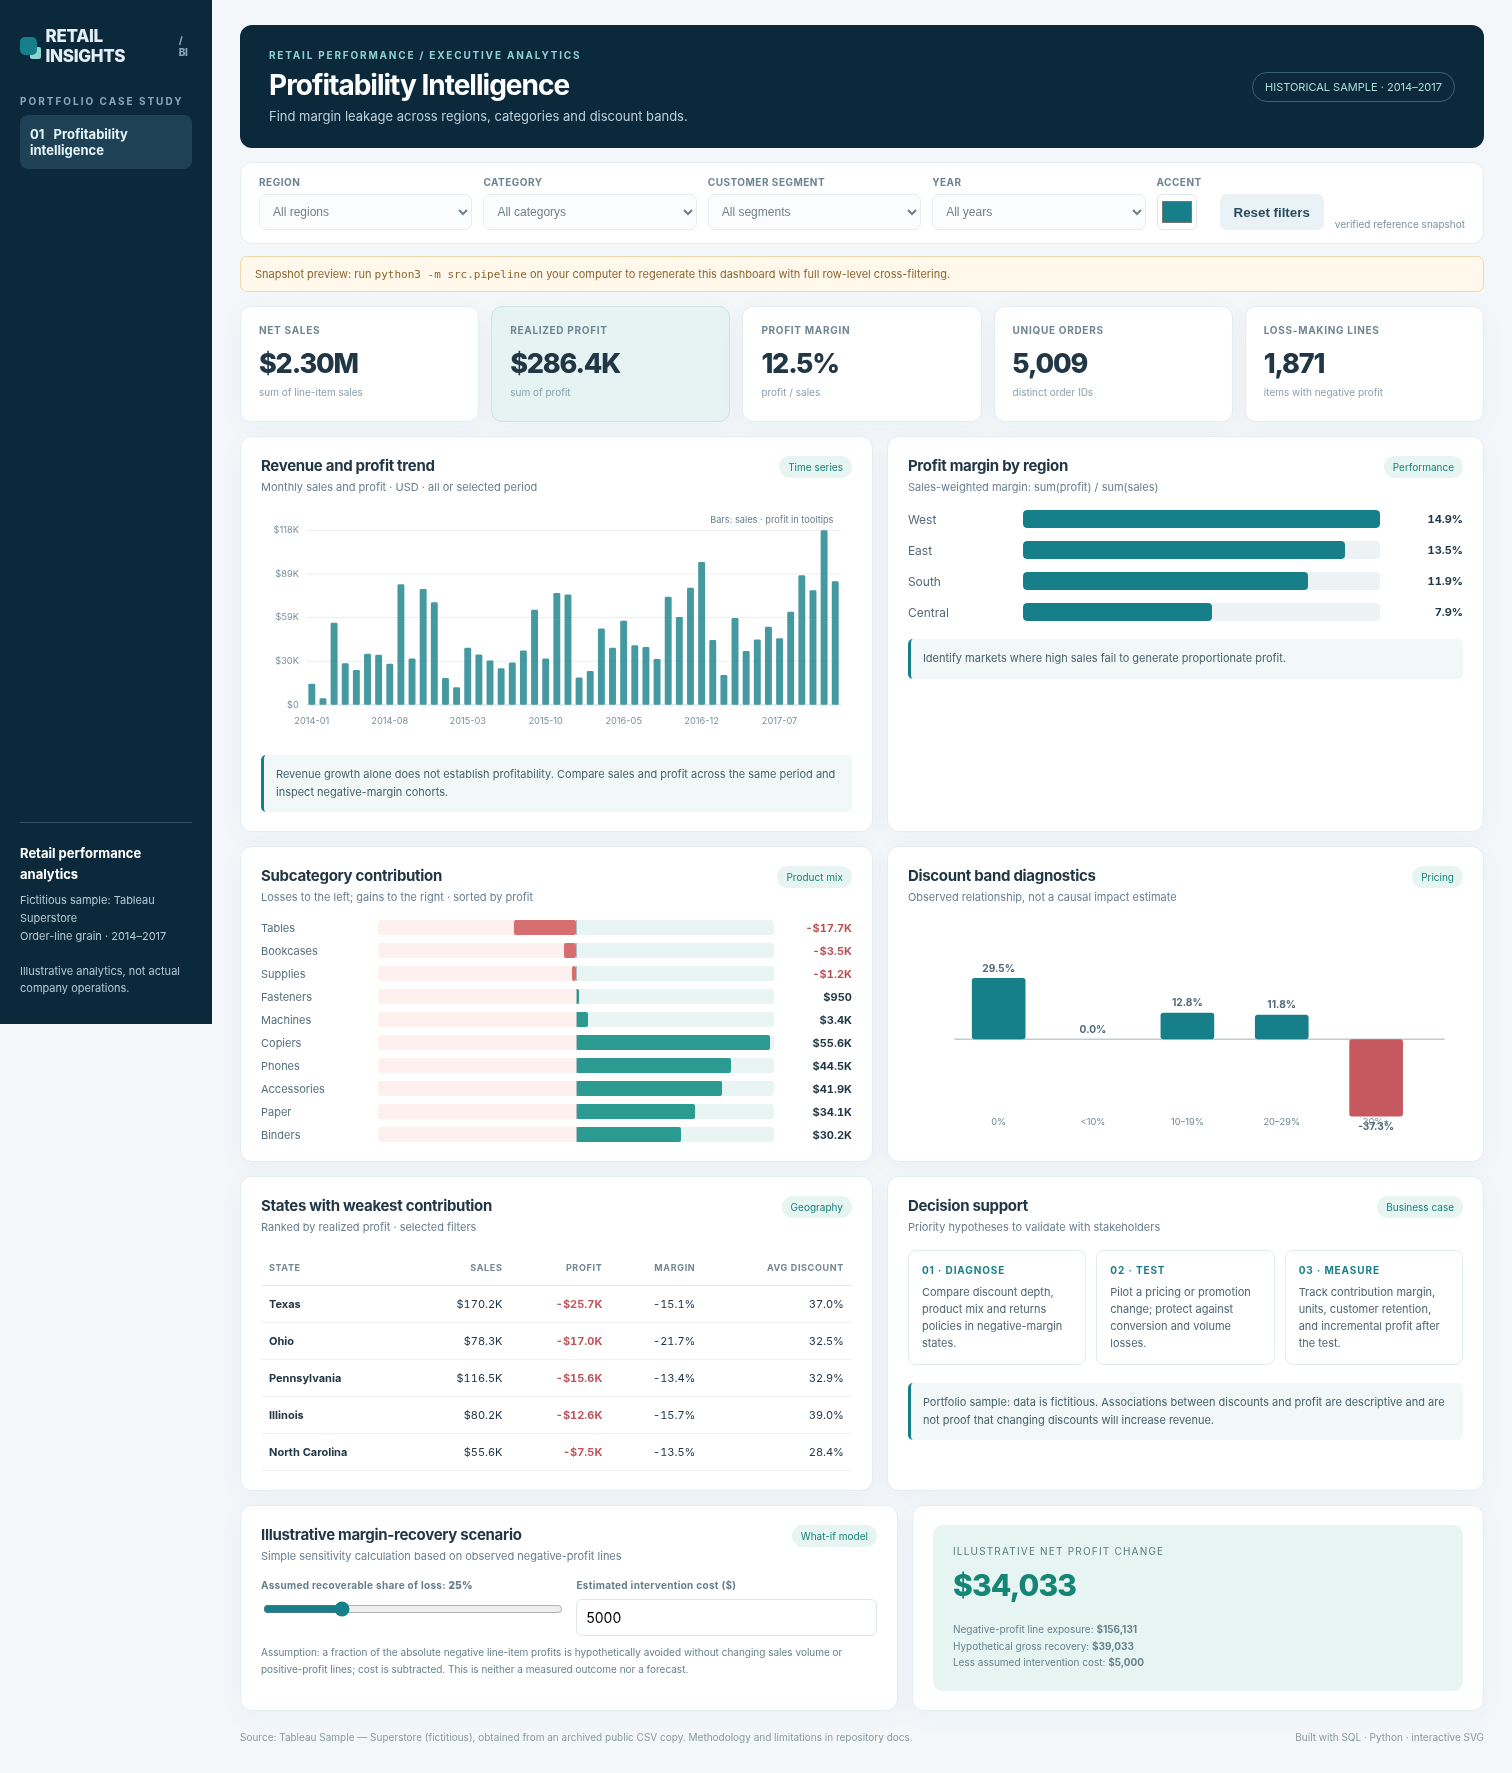

The page's visual inventory and layout, read from the dashboard file:
{"tool":"tableau","page":{"name":"Dashboard 1","canvas":[1400,1500],"ordinal":0},"visuals":[{"type":"text","box":[13,13,1374,104.2]},{"type":"worksheet","title":"KPI - Total Orders","mark":"Automatic","box":[1043,117,344,106]},{"type":"worksheet","title":"KPI - Total Sales","mark":"Automatic","box":[13,117.2,343.4,106.2]},{"type":"worksheet","title":"KPI - Total Profit","mark":"Automatic","box":[356.4,117.2,343.5,106.2]},{"type":"worksheet","title":"KPI - Profit Margin","mark":"Automatic","box":[699.9,117.2,343.5,106.2]},{"type":"worksheet","title":"Chart - Sales & Profit by Region.","mark":"Bar","cols":["region"],"box":[13,223.4,558,421.2]},{"type":"worksheet","title":"Chart - Profit by Subcategory","mark":"Bar","rows":["subcategory"],"cols":["profit"],"box":[571,223.4,653,421.2]},{"type":"filter","title":"Chart - Profit by State","param":"[federated.1rojaz21dk4mic12iuwn10he3per].[none:year:ok]","box":[1224,223.4,163,60]},{"type":"filter","title":"Chart - Profit by State","param":"[federated.1rojaz21dk4mic12iuwn10he3per].[none:region:nk]","box":[1224,283.4,163,60]},{"type":"filter","title":"Chart - Profit by State","param":"[federated.1rojaz21dk4mic12iuwn10he3per].[none:category:nk]","box":[1224,343.4,163,60]},{"type":"legend","title":"Chart - Profit by Subcategory","param":"[federated.1rojaz21dk4mic12iuwn10he3per].[usr:Calculation_5491161846902786:nk]","box":[1224,403.4,163,73]},{"type":"legend","title":"Chart - Sales & Profit by Region.","param":"[federated.1rojaz21dk4mic12iuwn10he3per].[:Measure Names]","box":[1224,476.4,163,76]},{"type":"legend","title":"Chart - Profit by State","param":"[federated.1rojaz21dk4mic12iuwn10he3per].[sum:profit:qk]","box":[1224,552.4,163,75]},{"type":"worksheet","title":"Monthly Sales & Profit Trend","mark":"Bar","rows":["sales","profit"],"cols":["order_date"],"box":[13,645,687,419]},{"type":"worksheet","title":"Chart - Discount Band Analysis","mark":"Bar","rows":["Calculation_5491161833418752"],"cols":["discount_band"],"box":[700,645,687,419]},{"type":"worksheet","title":"Chart - Profit by State","mark":"Multipolygon","box":[13,1063.8,859,423.2]},{"type":"text","box":[872,1063.8,515,423.2]}]}

Visuals, with their boxes on the page's 1400x1500 design canvas (x1, y1, x2, y2). These are canvas units, not pixel positions in the 1512x1773 screenshot, which may show the page scaled, cropped or inside an application window:
text: 13:13:1387:117
"KPI - Total Orders" worksheet: 1043:117:1387:223
"KPI - Total Sales" worksheet: 13:117:356:223
"KPI - Total Profit" worksheet: 356:117:700:223
"KPI - Profit Margin" worksheet: 700:117:1043:223
"Chart - Sales & Profit by Region." worksheet (Bar marks): 13:223:571:645
"Chart - Profit by Subcategory" worksheet (Bar marks): 571:223:1224:645
"Chart - Profit by State" filter: 1224:223:1387:283
"Chart - Profit by State" filter: 1224:283:1387:343
"Chart - Profit by State" filter: 1224:343:1387:403
"Chart - Profit by Subcategory" legend: 1224:403:1387:476
"Chart - Sales & Profit by Region." legend: 1224:476:1387:552
"Chart - Profit by State" legend: 1224:552:1387:627
"Monthly Sales & Profit Trend" worksheet (Bar marks): 13:645:700:1064
"Chart - Discount Band Analysis" worksheet (Bar marks): 700:645:1387:1064
"Chart - Profit by State" worksheet (Multipolygon marks): 13:1064:872:1487
text: 872:1064:1387:1487
